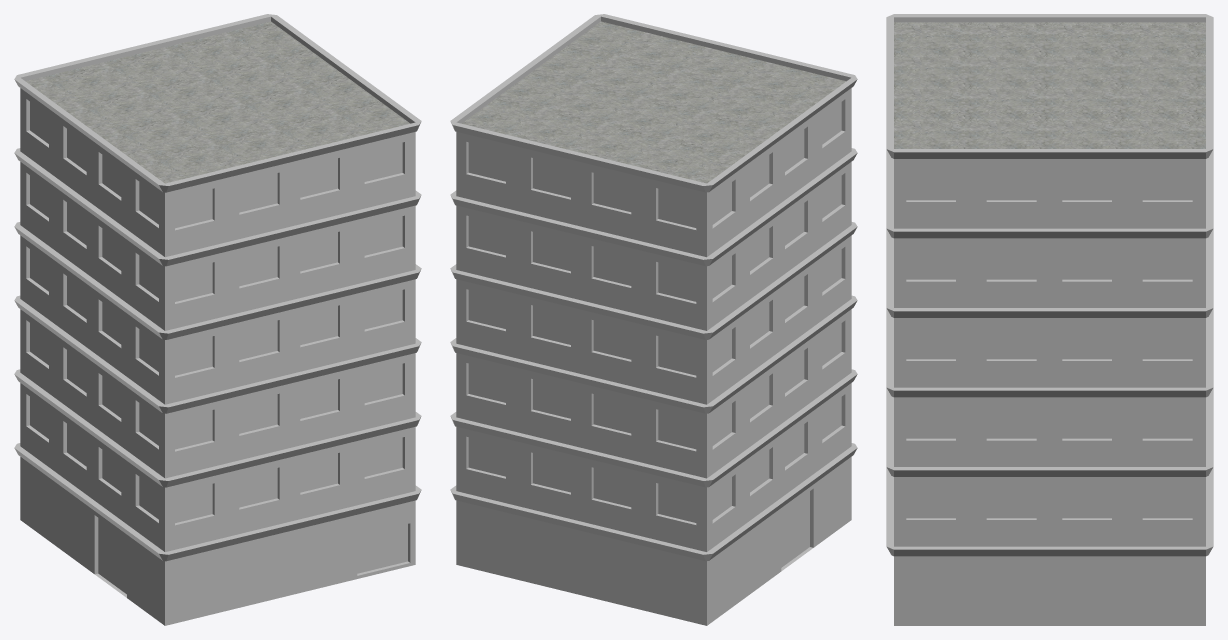
The model's file is RV_Building_Type_B_06.fbx.
3 renders of one model, left to right at view 1: azimuth 30°, elevation 25°; view 2: azimuth 150°, elevation 25°; view 3: azimuth 270°, elevation 25°, orthographic. The views are drawn at different scales.
Visible parts, largest first — view 1: RV_Building_Type_B_06; view 2: RV_Building_Type_B_06; view 3: RV_Building_Type_B_06.
Boxes of the visible parts, x1=… form: RV_Building_Type_B_06: x1=14, y1=14, x2=421, y2=625; RV_Building_Type_B_06: x1=450, y1=14, x2=857, y2=625; RV_Building_Type_B_06: x1=886, y1=14, x2=1213, y2=625.
Size of the model in its own units: 1074 by 1728 by 1074.
